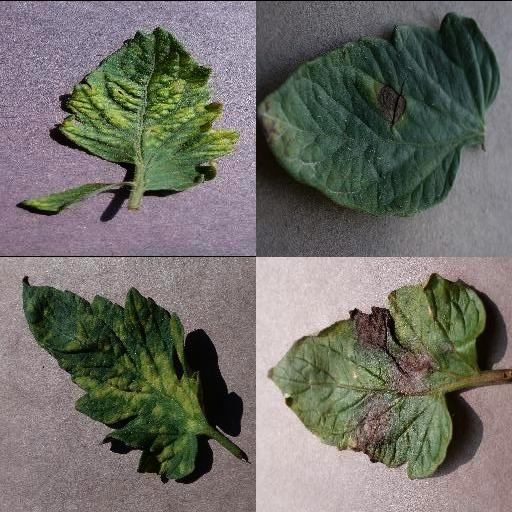Early Blight: (257, 10, 501, 214)
Late Blight: (269, 271, 487, 477)
Leaf Mold: (22, 274, 208, 481)
Mosaic Virus: (58, 24, 240, 192), (19, 181, 117, 213)
